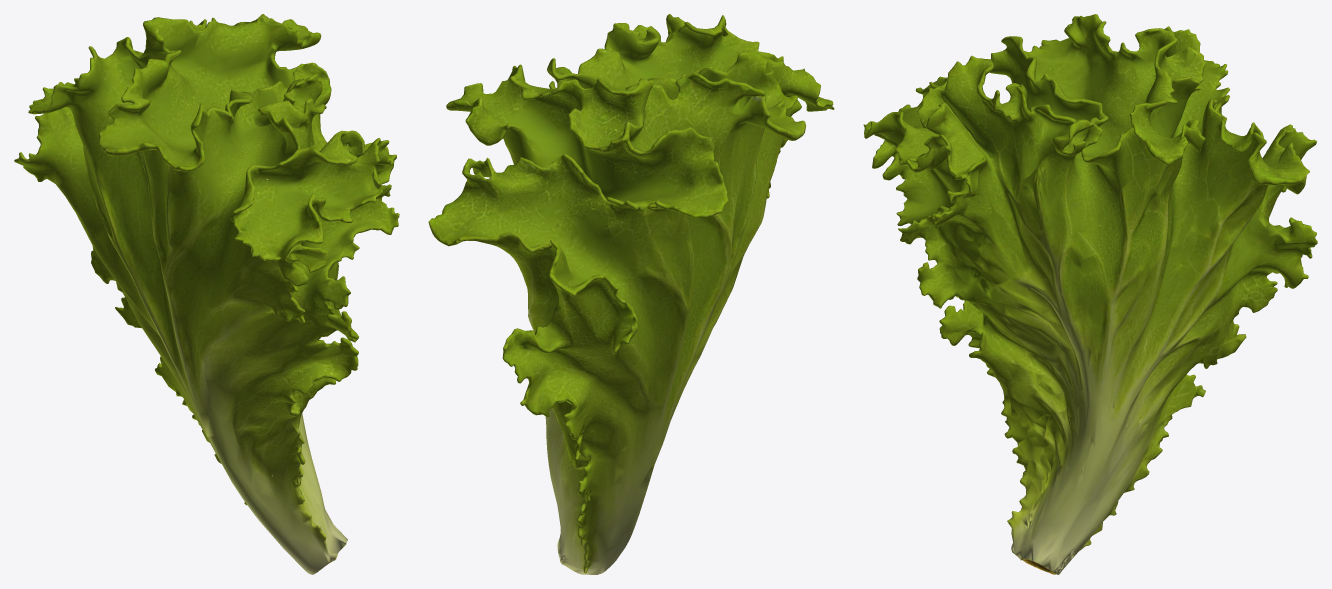
Rendered from g-lettuce.glb.
The picture shows the model from 3 angles, left to right: view 1: azimuth 30°, elevation 25°; view 2: azimuth 150°, elevation 25°; view 3: azimuth 270°, elevation 25°; orthographic projection. The views are drawn at different scales.
Parts seen in each view (by area): view 1: tripo_node_60abdccc-a995-4ee4-8d62-c991785af849; view 2: tripo_node_60abdccc-a995-4ee4-8d62-c991785af849; view 3: tripo_node_60abdccc-a995-4ee4-8d62-c991785af849.
Part boxes in pixels (left/top/right/bottom): tripo_node_60abdccc-a995-4ee4-8d62-c991785af849: left=14, top=14, right=399, bottom=574; tripo_node_60abdccc-a995-4ee4-8d62-c991785af849: left=428, top=14, right=834, bottom=574; tripo_node_60abdccc-a995-4ee4-8d62-c991785af849: left=863, top=14, right=1317, bottom=574.
Size of the model in its own units: 0.5305 by 0.9786 by 0.8098.
Materials: 1 (1 with a texture image).
